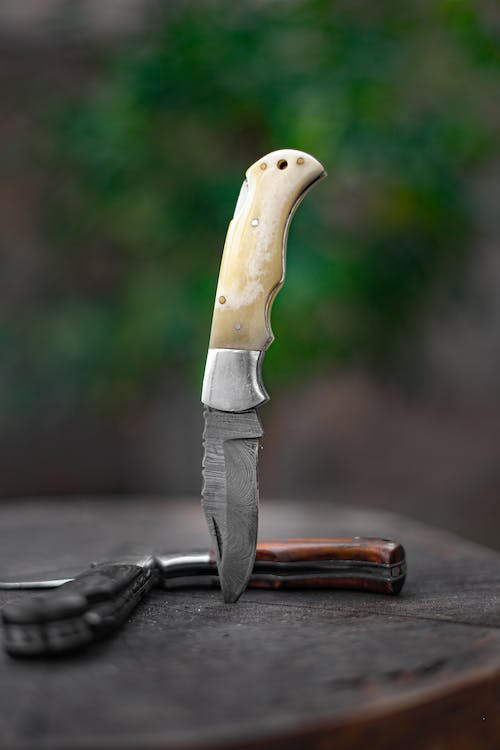knife: (197, 144, 329, 608), (0, 551, 412, 605)
